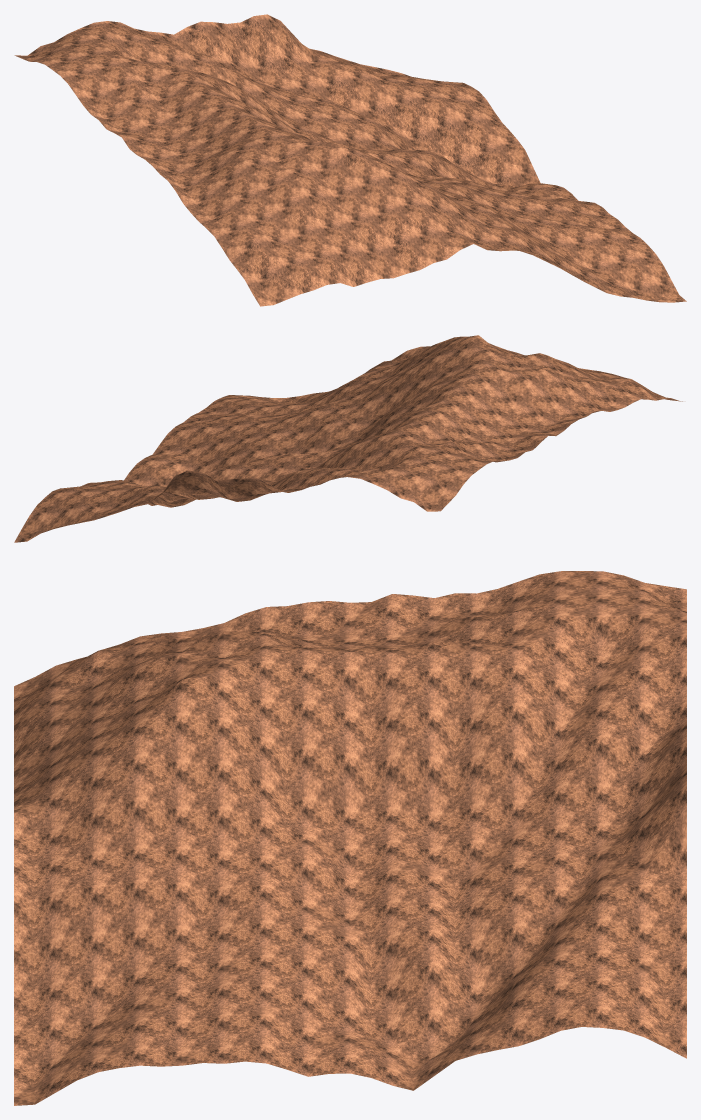
Rendered from terrain_05_04.dae.
The picture shows the model from 3 angles, top to bottom: view 1: azimuth 30°, elevation 25°; view 2: azimuth 150°, elevation 25°; view 3: azimuth 270°, elevation 25°; orthographic projection. The views are drawn at different scales.
Parts seen in each view (by area): view 1: terrain_05_04-node; view 2: terrain_05_04-node; view 3: terrain_05_04-node.
Boxes of the visible parts, left/top/right/bottom form: terrain_05_04-node: left=14, top=14, right=686, bottom=306; terrain_05_04-node: left=14, top=335, right=682, bottom=542; terrain_05_04-node: left=14, top=571, right=686, bottom=1105.
Bounding box in the file's own units: 128 × 128 × 52.72.
1 material, 1 textured.
